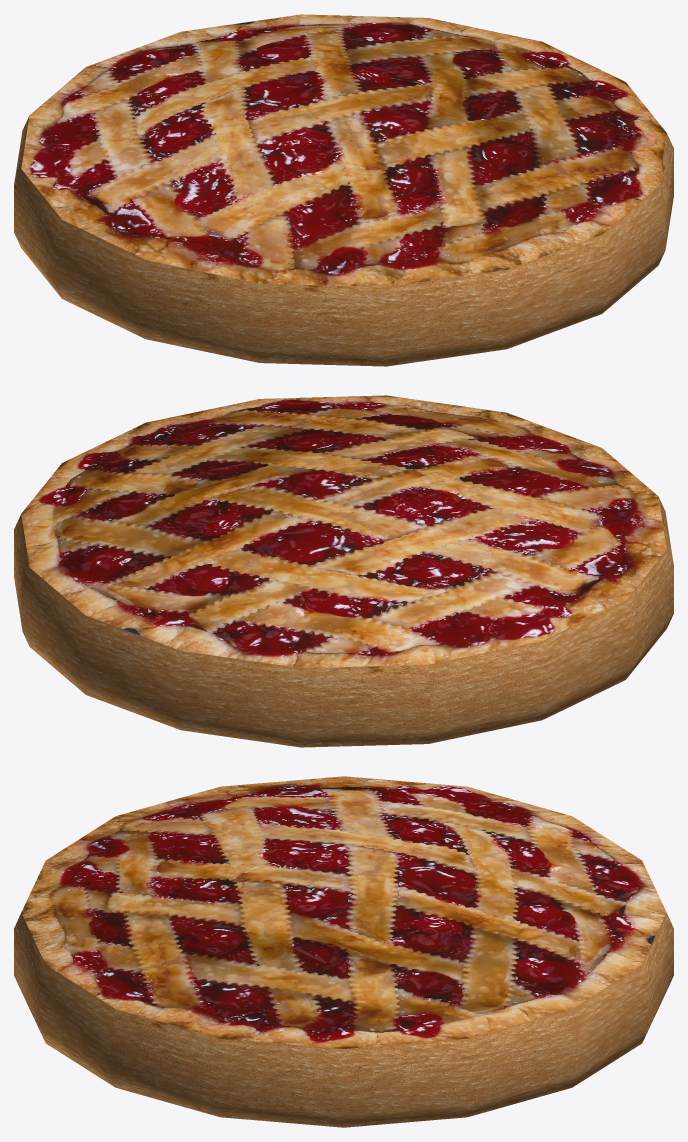
The model's file is Pie.FBX.
The picture shows the model from 3 angles, top to bottom: view 1: azimuth 30°, elevation 25°; view 2: azimuth 150°, elevation 25°; view 3: azimuth 270°, elevation 25°; orthographic projection.
Visible parts, largest first — view 1: ChamferCyl001; view 2: ChamferCyl001; view 3: ChamferCyl001.
Part boxes in pixels (box(x1,y1,x2,y2)): ChamferCyl001: box(14, 14, 673, 366); ChamferCyl001: box(14, 395, 673, 747); ChamferCyl001: box(14, 776, 673, 1127).
Size of the model in its own units: 160 by 30.93 by 160.
Materials: 1 (1 with a texture image).
